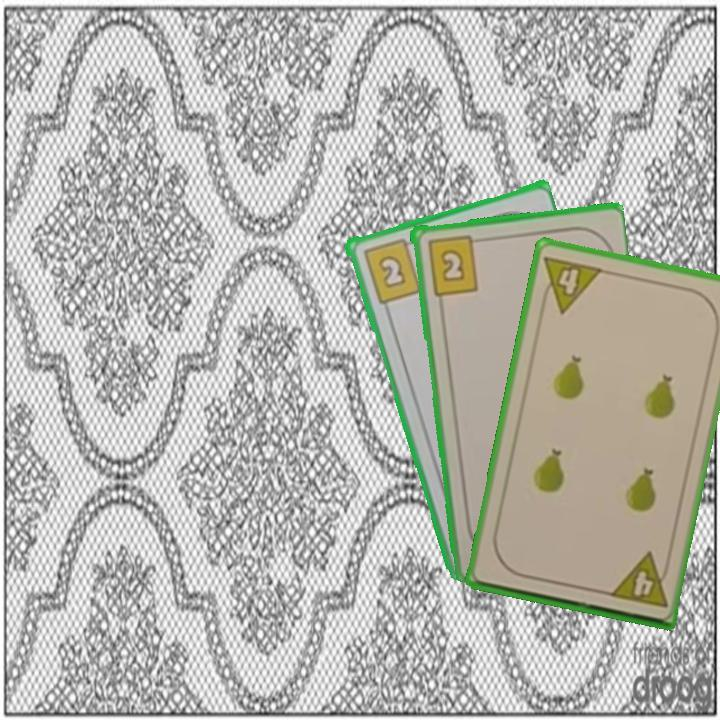2b: (359, 234, 423, 306), (423, 232, 485, 298)
4p: (536, 252, 605, 316), (605, 549, 673, 611)
